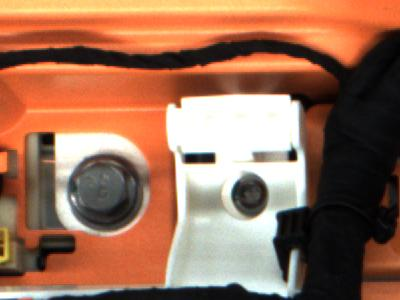nut_b: (66, 149, 148, 233)
